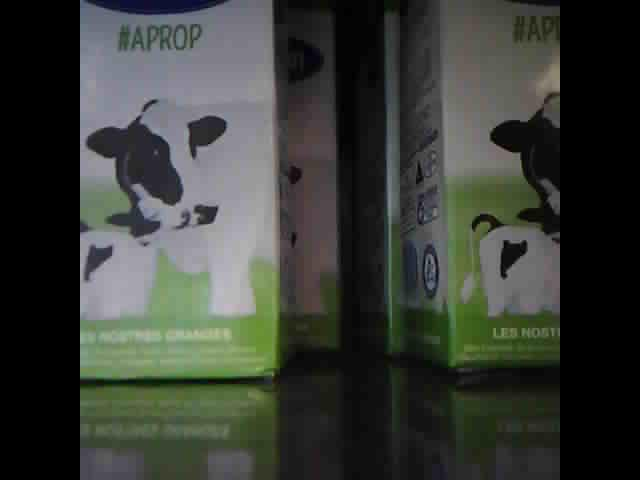leche: (82, 3, 272, 379), (402, 4, 560, 365), (284, 7, 335, 353), (363, 12, 400, 347)
